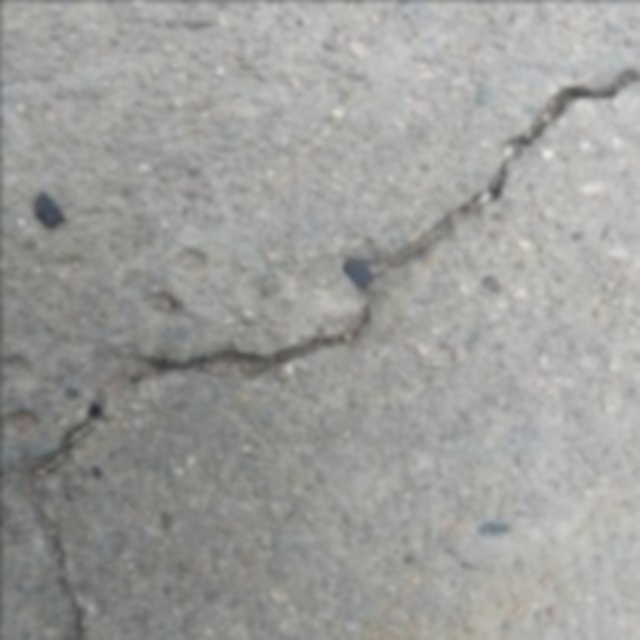SurfaceCrack: (0, 42, 636, 640)
